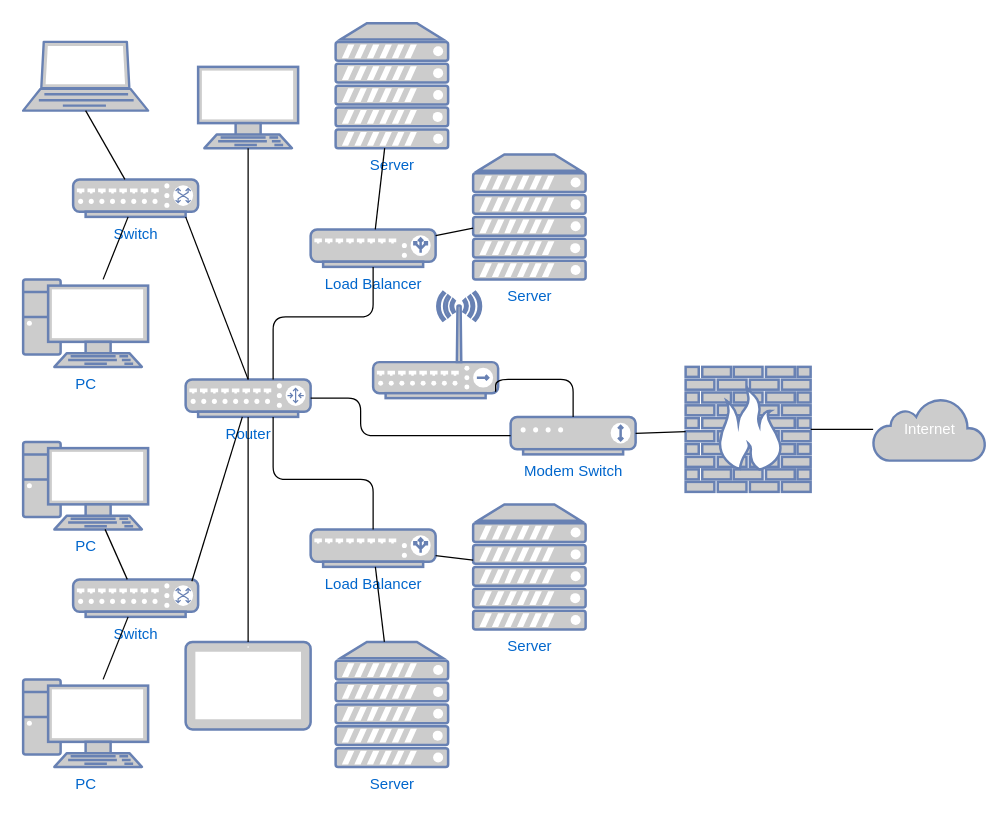
This 1008x814 diagram has some shape labels left out. The shapes that lost their labels are listed below. From the top down, each one's centre as x and y in pixels, then its label:
the point at 85,75: Laptop
the point at 247,107: Terminal
the point at 435,344: Wireless Hub
the point at 747,428: Firewall
the point at 247,685: Tablet
